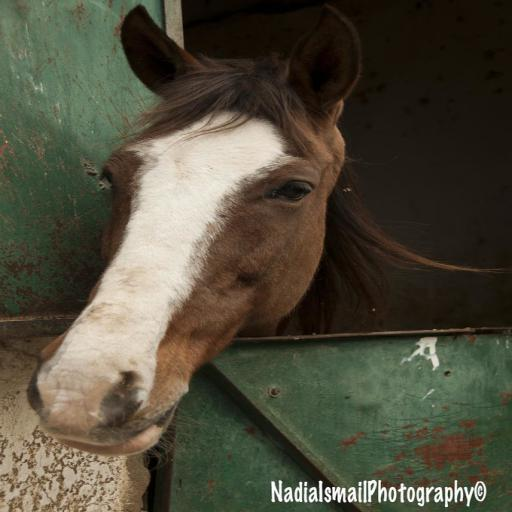Horse: (24, 1, 495, 460)
